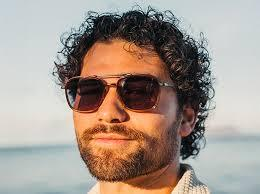sunglasses: (62, 69, 165, 120)
